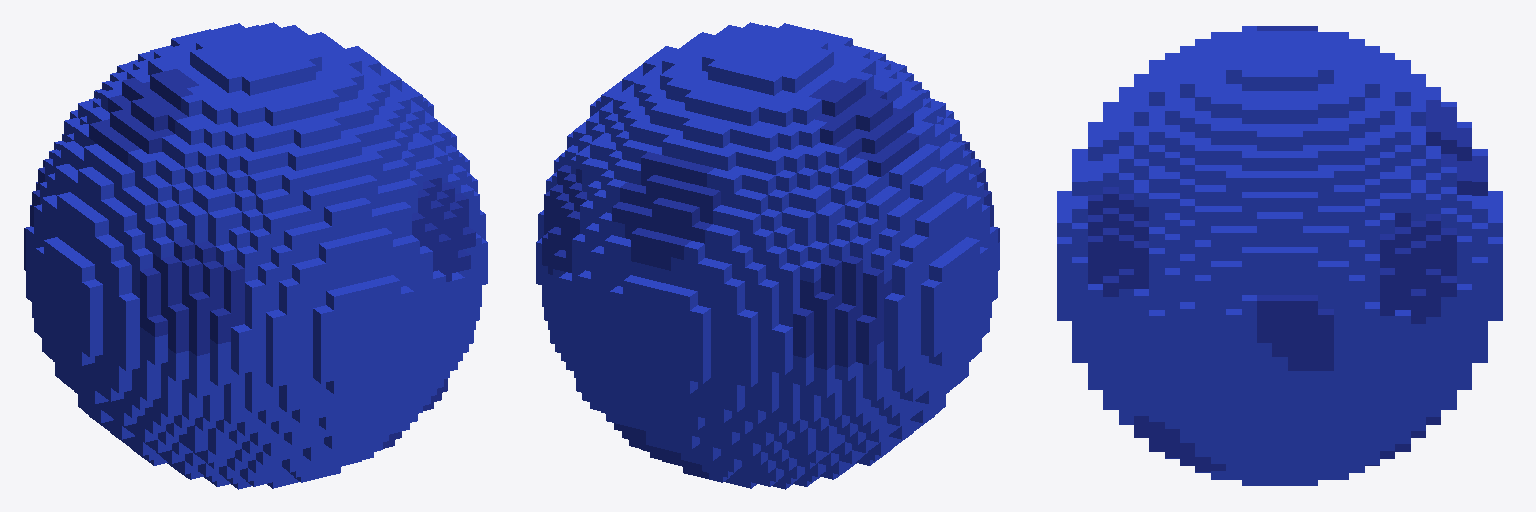
The picture shows the model from 3 angles: view 1: azimuth 30°, elevation 25°; view 2: azimuth 150°, elevation 25°; view 3: azimuth 270°, elevation 25°; orthographic projection.
Visible parts, largest first — view 1: Neptune; view 2: Neptune; view 3: Neptune.
Part boxes in pixels (left/top/right/bottom): Neptune: left=24, top=22, right=487, bottom=489; Neptune: left=536, top=22, right=999, bottom=489; Neptune: left=1057, top=26, right=1502, bottom=485.
Size of the model in its own units: 29 by 29 by 29.
Materials: 1 (1 with a texture image).